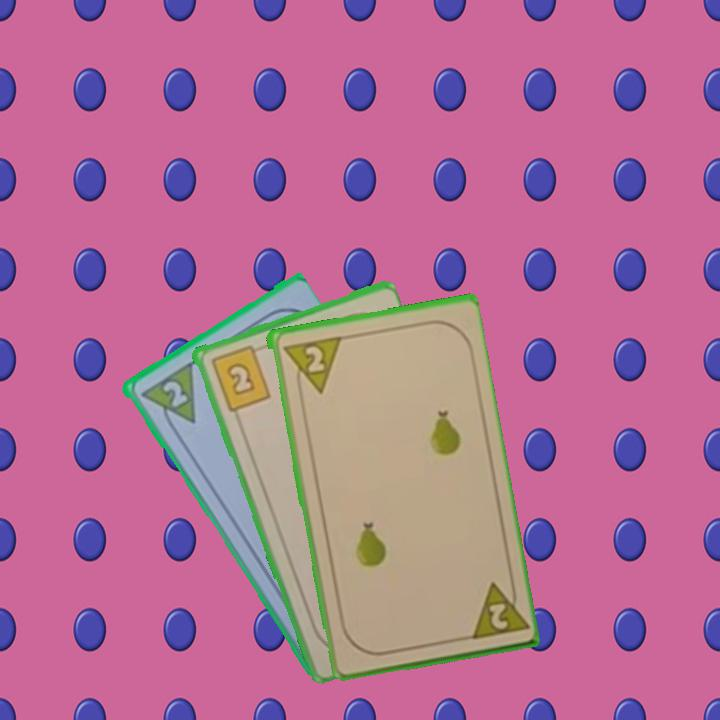2b: (206, 341, 273, 414)
2p: (277, 332, 342, 399), (158, 376, 190, 410), (484, 599, 511, 633)
